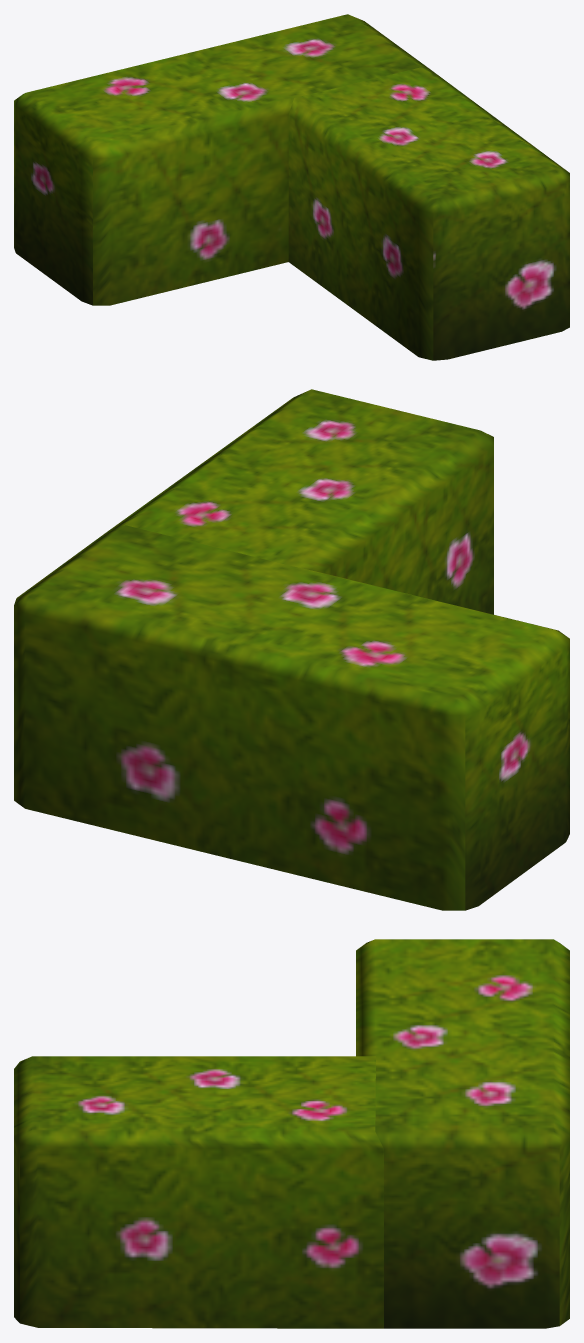
File: Hedge_1b_atlas.fbx
3 views of the same model, one above another, from view 1: azimuth 30°, elevation 25°; view 2: azimuth 150°, elevation 25°; view 3: azimuth 270°, elevation 25° (orthographic). The views are drawn at different scales.
Parts seen in each view (by area): view 1: polySurface127; view 2: polySurface127; view 3: polySurface127.
Boxes of the visible parts, box(x1,y1,x2,y2) form: polySurface127: box(14, 14, 569, 360); polySurface127: box(14, 389, 569, 910); polySurface127: box(14, 939, 569, 1328).
Bounding box in the file's own units: 3.54 × 1.5 × 4.
